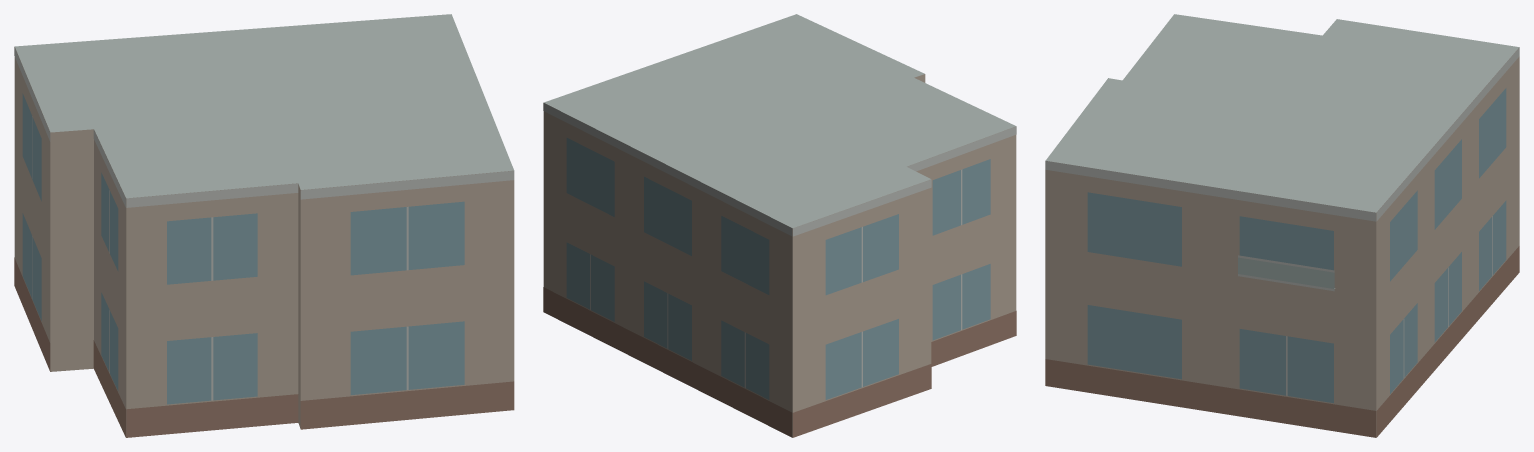
File: survey-upis-32831324.glb
3 views of the same model, side by side, from view 1: azimuth 30°, elevation 25°; view 2: azimuth 150°, elevation 25°; view 3: azimuth 270°, elevation 25° (orthographic). The views are drawn at different scales.
Visible parts, largest first — view 1: survey-upis-32831324.tmp; view 2: survey-upis-32831324.tmp; view 3: survey-upis-32831324.tmp.
Part boxes in pixels (x1=…): survey-upis-32831324.tmp: x1=14, y1=14, x2=514, y2=437; survey-upis-32831324.tmp: x1=543, y1=14, x2=1016, y2=437; survey-upis-32831324.tmp: x1=1045, y1=14, x2=1519, y2=437.
Size of the model in its own units: 11.55 by 6.1 by 11.65.
